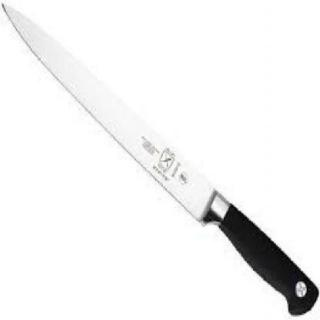knife: (0, 0, 219, 260)
